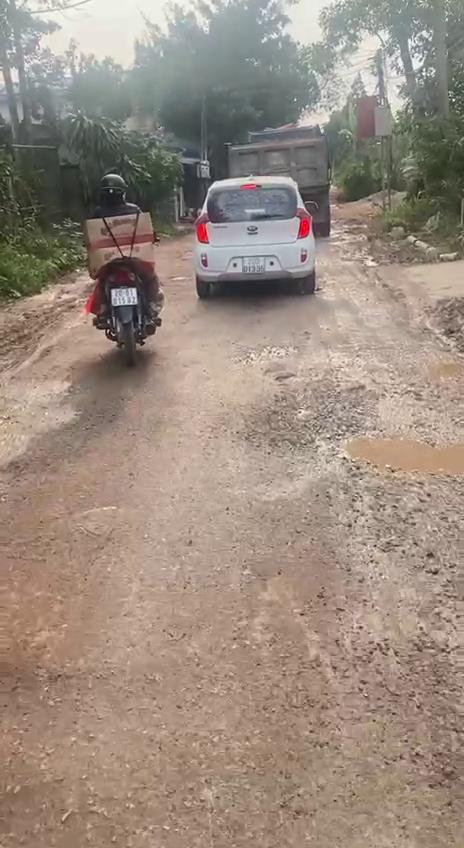pothole: (258, 376, 464, 484)
